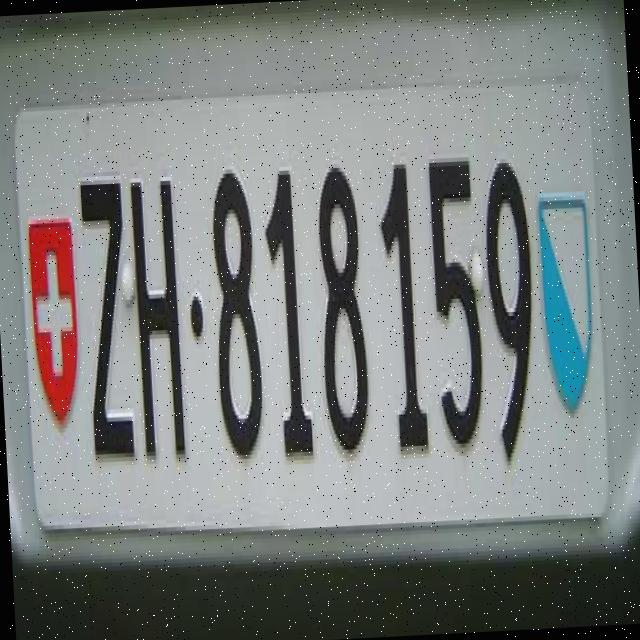Autre: (14, 76, 609, 551)
